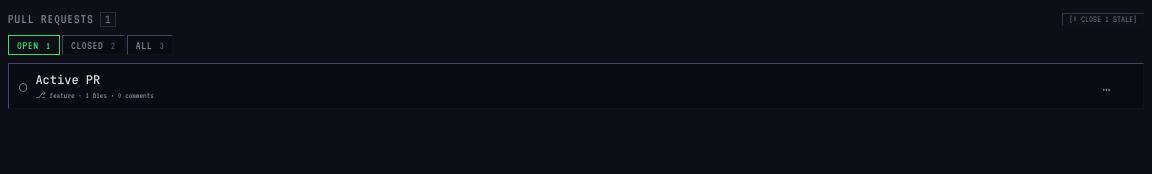
PRList component › closed tab shows merged and closed PRs
Click the button "CLOSED 2" at (93, 45), box [62,35,125,55]
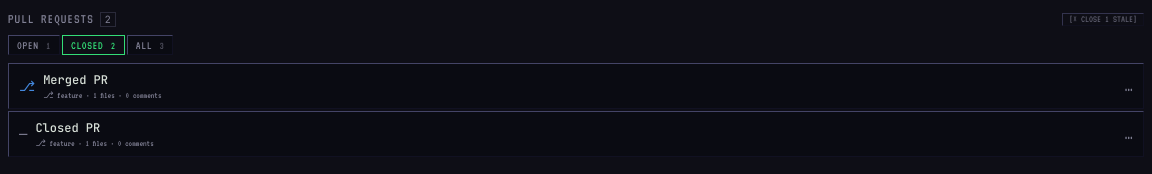
Now the button "Active PR" is gone
Now the text "Merged PR" is shown, box [43,72,108,88]
Now the text "Closed PR" is shown, box [35,120,100,136]
